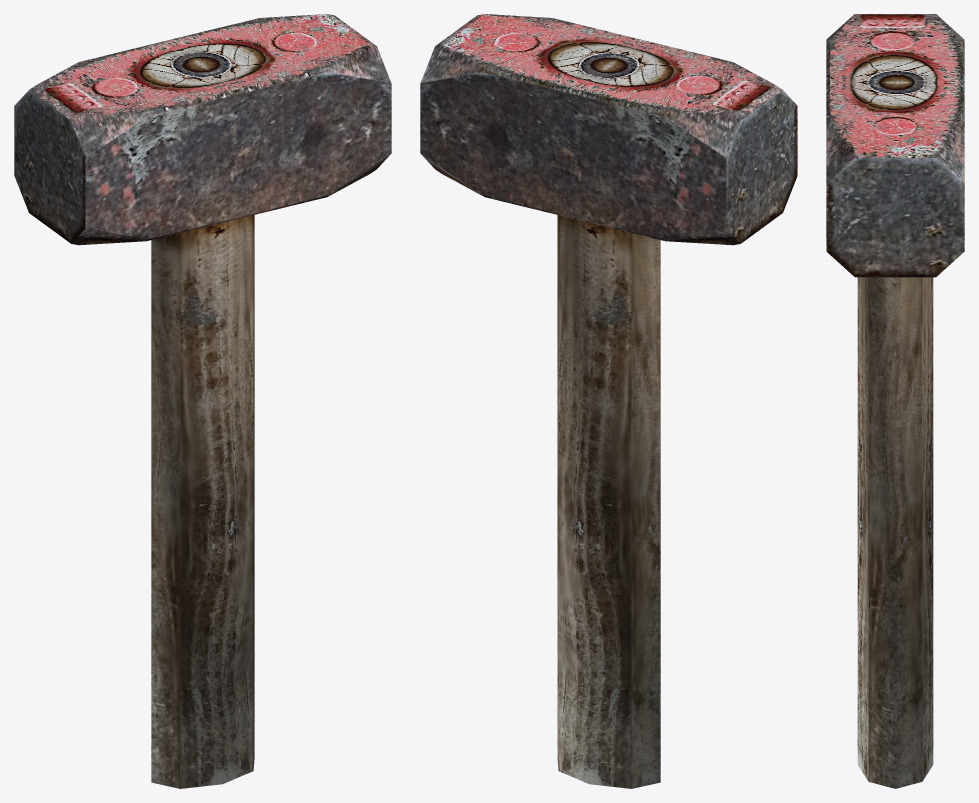
The model's file is hammer.glb.
The picture shows the model from 3 angles, left to right: view 1: azimuth 30°, elevation 25°; view 2: azimuth 150°, elevation 25°; view 3: azimuth 270°, elevation 25°; orthographic projection. The views are drawn at different scales.
Parts seen in each view (by area): view 1: Object_2; view 2: Object_2; view 3: Object_2.
Part boxes in pixels (x1=…): Object_2: x1=14, y1=14, x2=391, y2=788; Object_2: x1=420, y1=14, x2=797, y2=788; Object_2: x1=826, y1=14, x2=964, y2=788.
Size of the model in its own units: 0.0404 by 0.0891 by 0.0164.
1 material, 1 textured.
